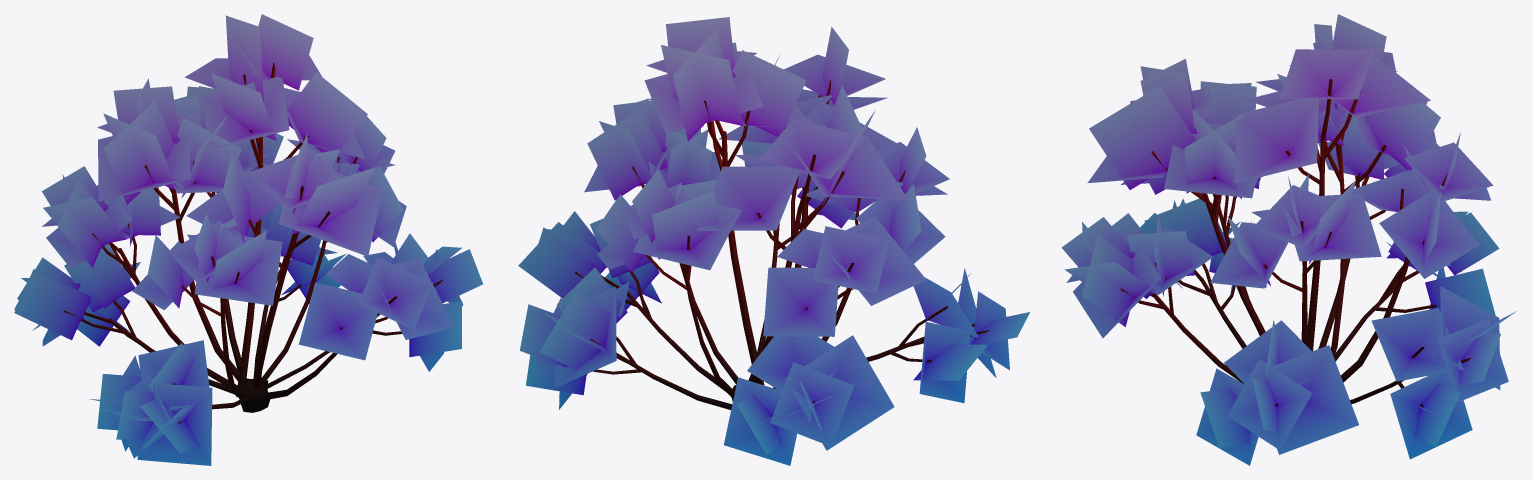
The model's file is SM_Env_Bush_Tropical_01.glb.
3 renders of one model, left to right at view 1: azimuth 30°, elevation 25°; view 2: azimuth 150°, elevation 25°; view 3: azimuth 270°, elevation 25°, orthographic. The views are drawn at different scales.
Parts seen in each view (by area): view 1: SM_Env_Bush_Tropical_01_LOD0; view 2: SM_Env_Bush_Tropical_01_LOD0; view 3: SM_Env_Bush_Tropical_01_LOD0.
Part boxes in pixels (bbox=[...]): SM_Env_Bush_Tropical_01_LOD0: bbox=[14, 14, 482, 465]; SM_Env_Bush_Tropical_01_LOD0: bbox=[518, 17, 1029, 465]; SM_Env_Bush_Tropical_01_LOD0: bbox=[1061, 14, 1516, 465].
Size of what is drawn, in the model's own units: 2.24 by 1.94 by 1.99.
